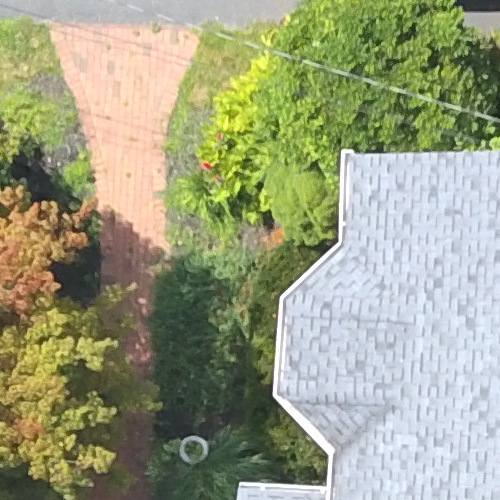container: (171, 427, 216, 467)
